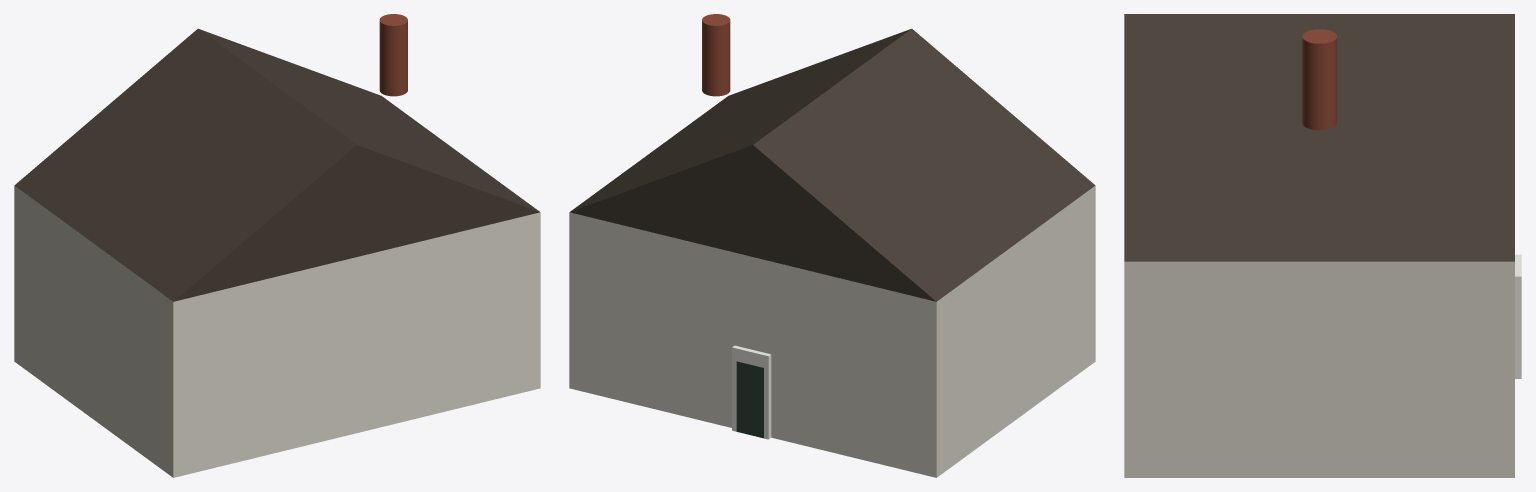
Rendered from d-us-01-clapboard-house.glb.
3 views of the same model, side by side, from view 1: azimuth 30°, elevation 25°; view 2: azimuth 150°, elevation 25°; view 3: azimuth 270°, elevation 25° (orthographic). The views are drawn at different scales.
Visible parts, largest first — view 1: part0, part1, part4; view 2: part0, part1, part4, part3, part2; view 3: part1, part0, part4, part2.
Boxes of the visible parts, x1,y1,x2,y2 form: part0: [14, 185, 540, 477]; part1: [14, 28, 539, 301]; part4: [379, 14, 407, 96]; part0: [569, 185, 1095, 477]; part1: [570, 28, 1095, 301]; part4: [702, 14, 730, 96]; part3: [736, 361, 763, 438]; part2: [732, 345, 771, 439]; part1: [1124, 14, 1514, 261]; part0: [1124, 261, 1514, 477]; part4: [1302, 29, 1336, 130]; part2: [1515, 254, 1521, 378].
Bounding box in the file's own units: 12000 × 10200 × 9150.
